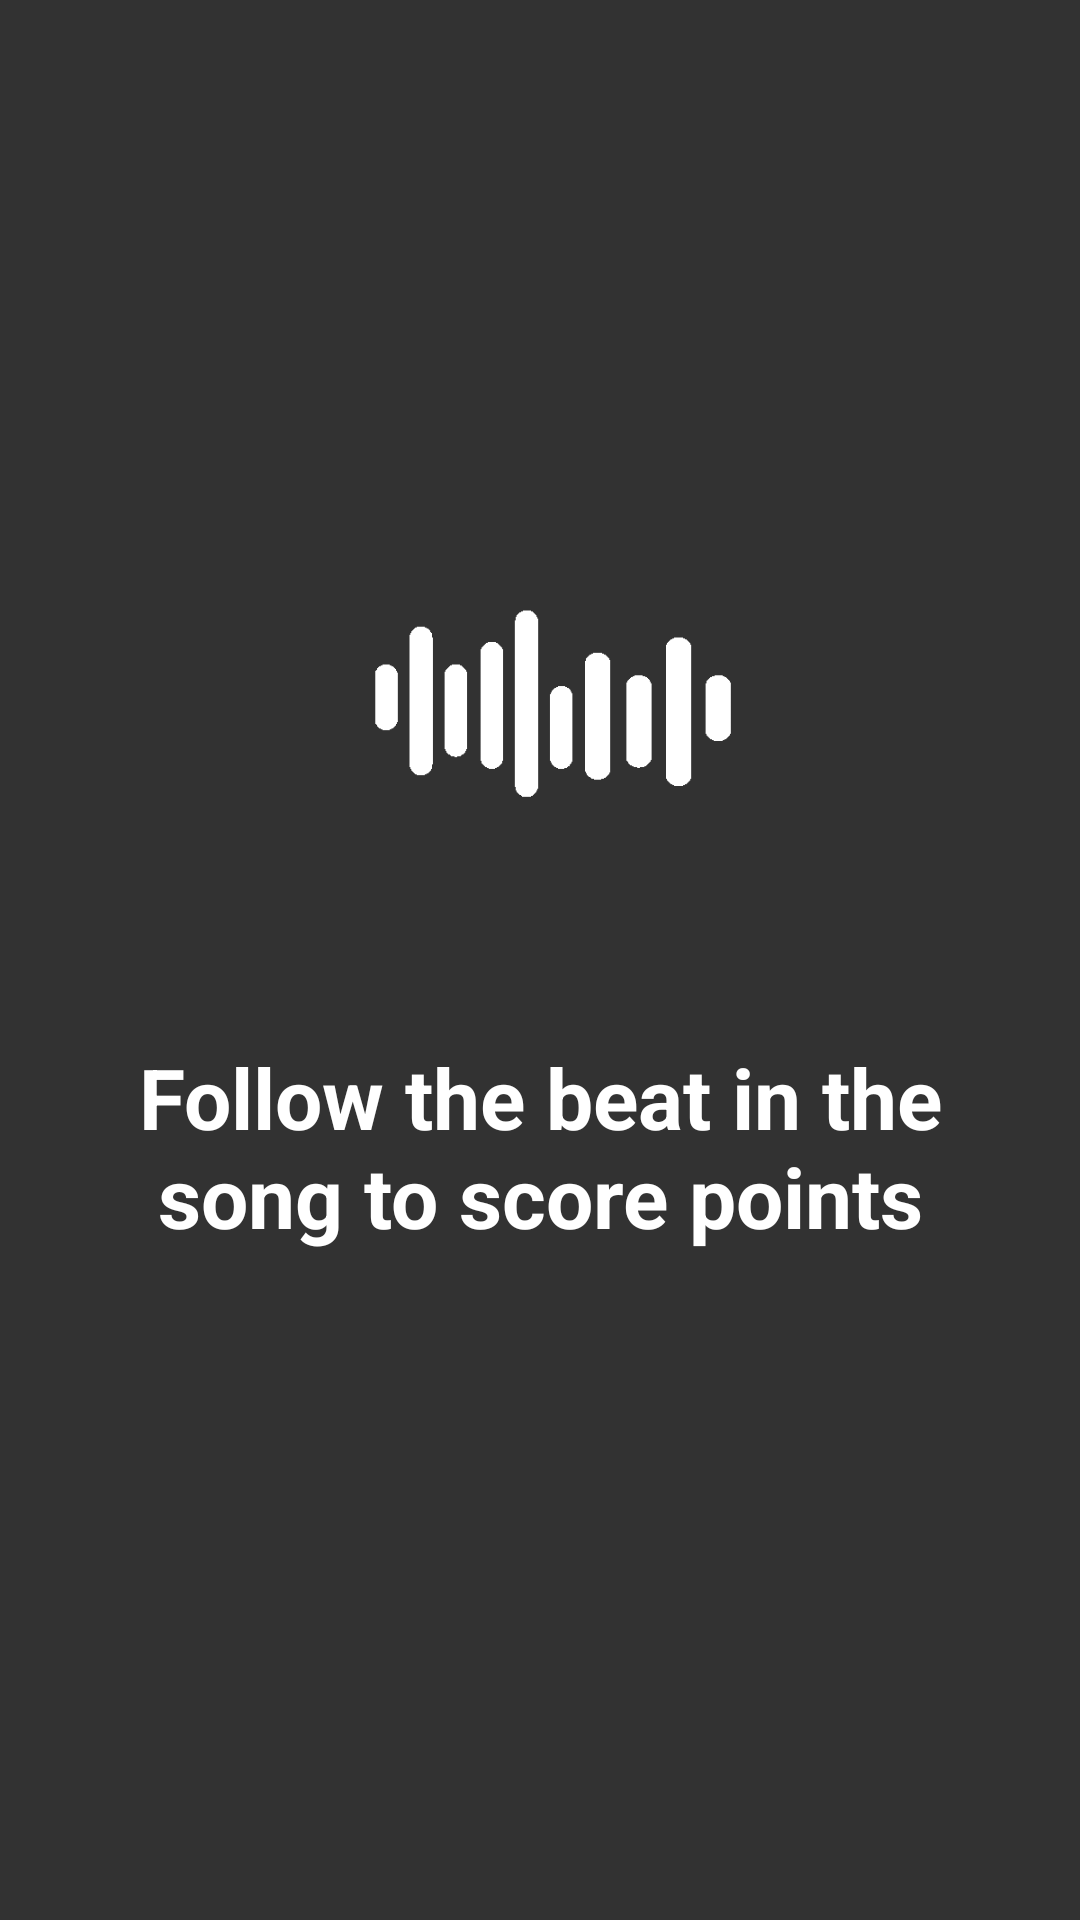

Where to tap for icons on this 1080 × 1920 app screen, as [x,y]:
soundwavve: [553,703]
